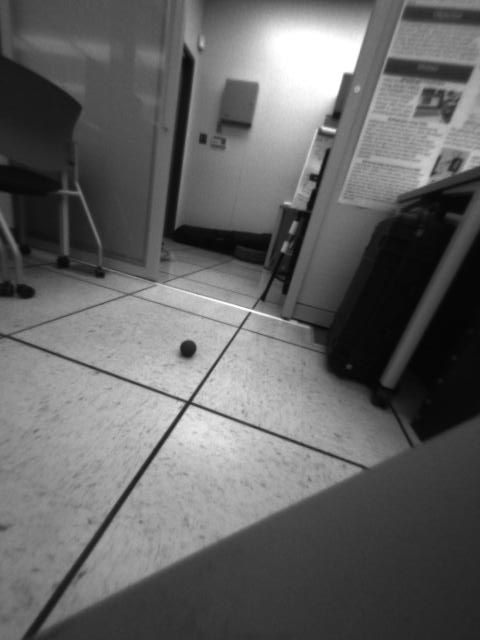dogtoy: (175, 333, 203, 363)
